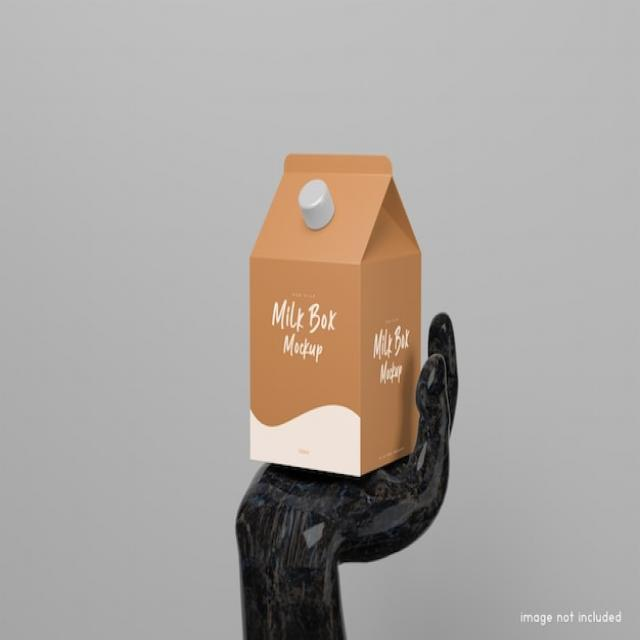non_white_jug: (230, 138, 431, 501)
